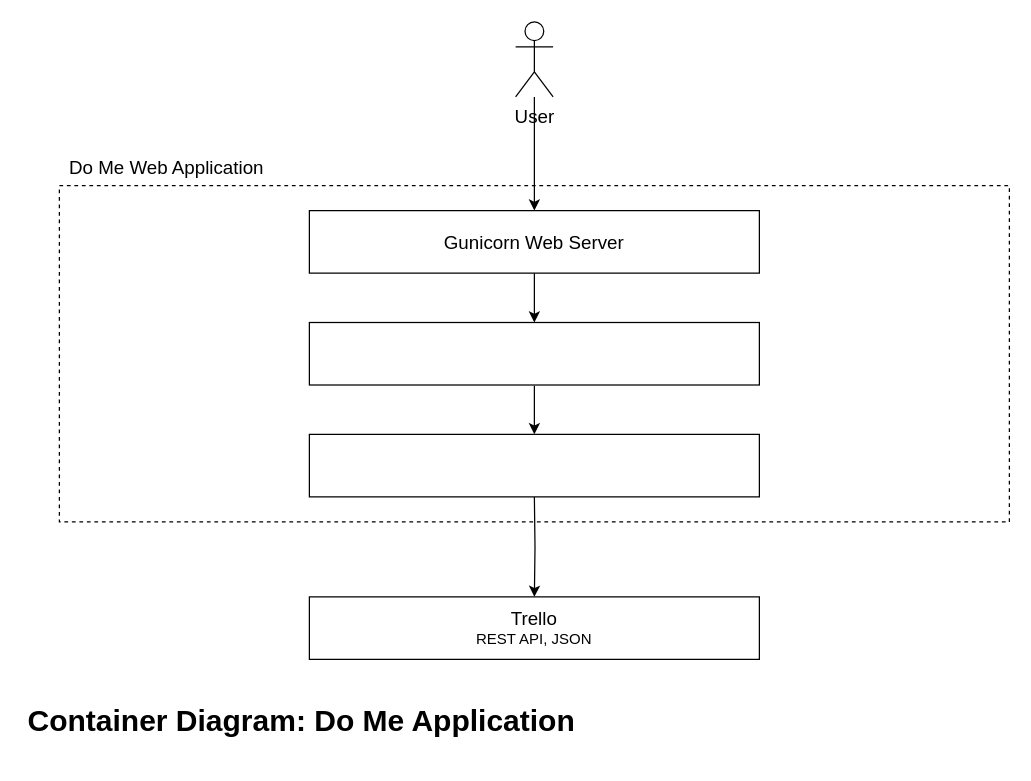
The diagram is 1031 pixels wide and 781 high, and some of its shapes have lost their labels. Each missing label, with the box of its shape:
Flask Web Server: (308, 321, 759, 385)
ToDo Web Application Python: (308, 433, 759, 497)
